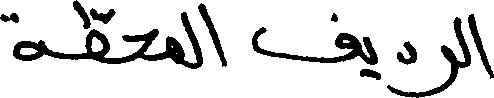X: (253, 8, 358, 67), (417, 17, 453, 97), (0, 8, 41, 65), (201, 0, 226, 71), (471, 9, 493, 83), (87, 3, 109, 68), (123, 24, 156, 67), (398, 36, 415, 97), (185, 0, 199, 73), (455, 10, 469, 83), (167, 7, 183, 69), (364, 32, 376, 84)
